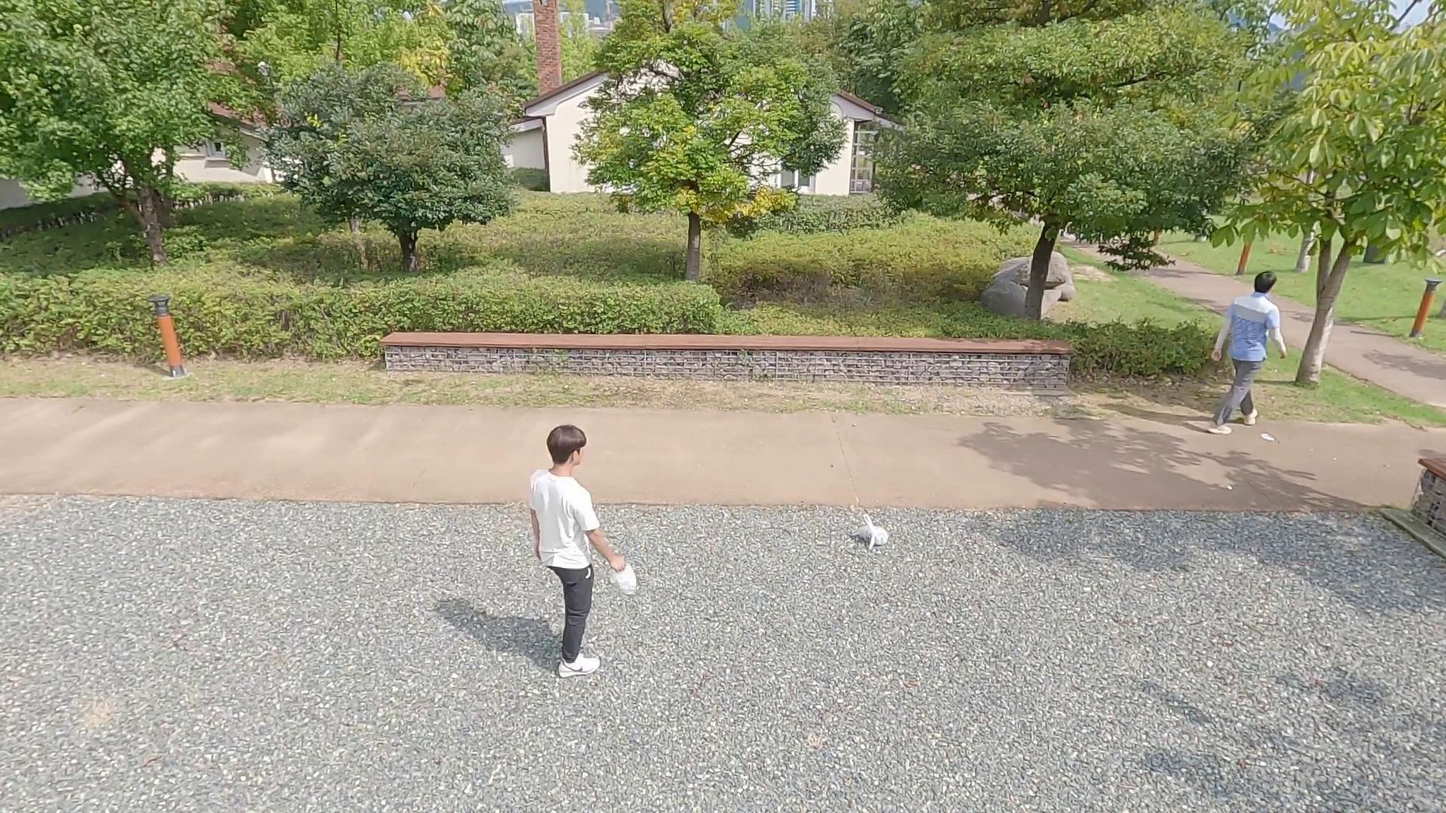person: (528, 425, 604, 678), (1209, 268, 1289, 437)
trash: (851, 511, 889, 550), (605, 563, 641, 597)
